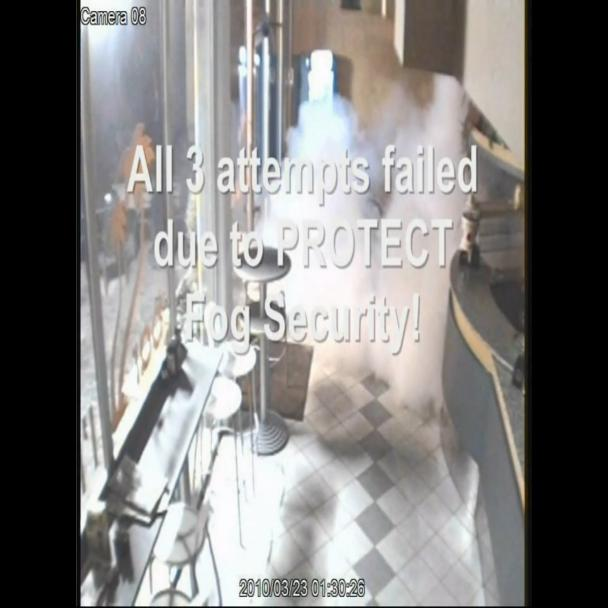smoke: (172, 38, 522, 488)
